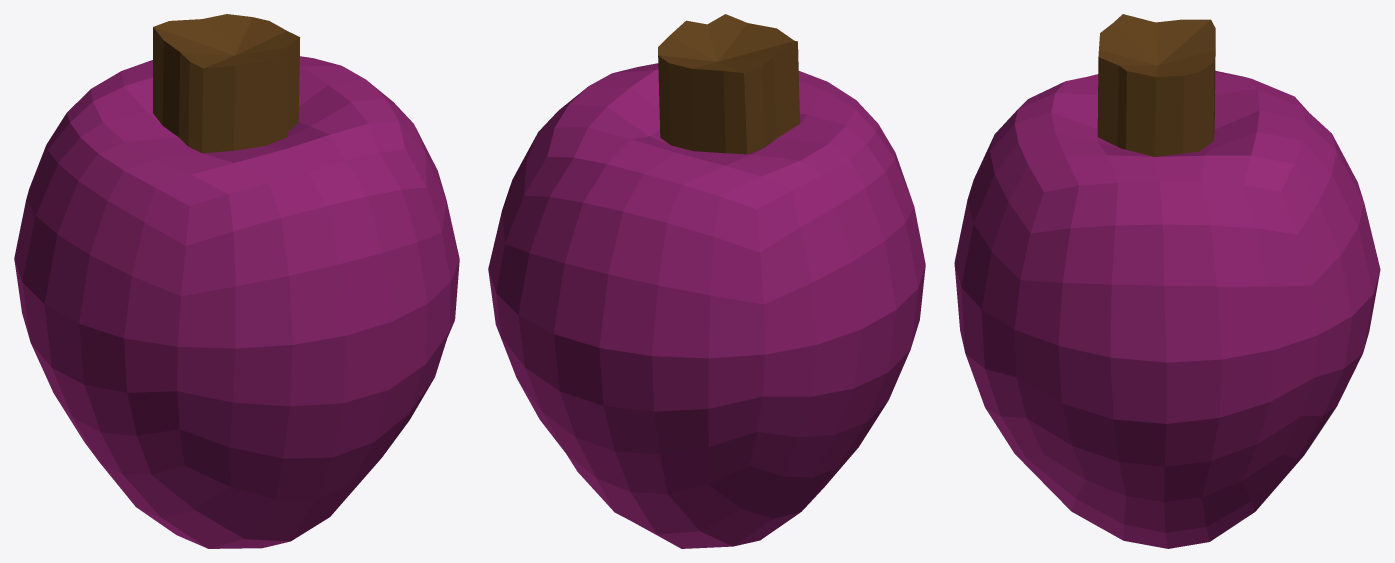
The model's file is Berry.fbx.
3 views of the same model, side by side, from view 1: azimuth 30°, elevation 25°; view 2: azimuth 150°, elevation 25°; view 3: azimuth 270°, elevation 25° (orthographic). The views are drawn at different scales.
Visible parts, largest first — view 1: Fruit; view 2: Fruit; view 3: Fruit.
Boxes of the visible parts, bbox=[...] form: Fruit: bbox=[14, 14, 459, 548]; Fruit: bbox=[488, 14, 925, 548]; Fruit: bbox=[954, 14, 1380, 548].
Size of the model in its own units: 2.9 by 3.66 by 2.88.
